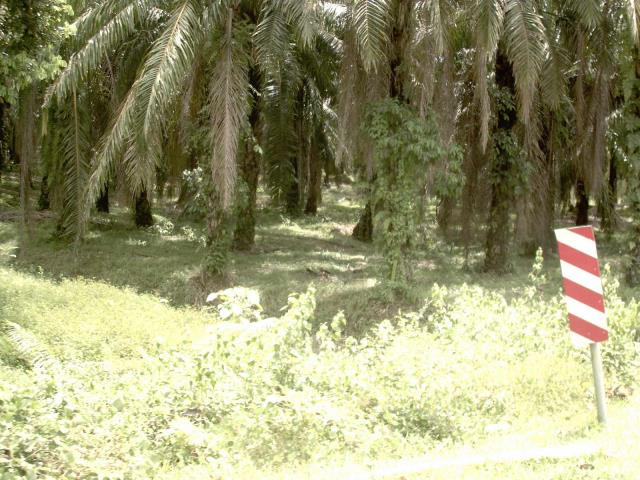traffic_sign: (543, 215, 623, 355)
